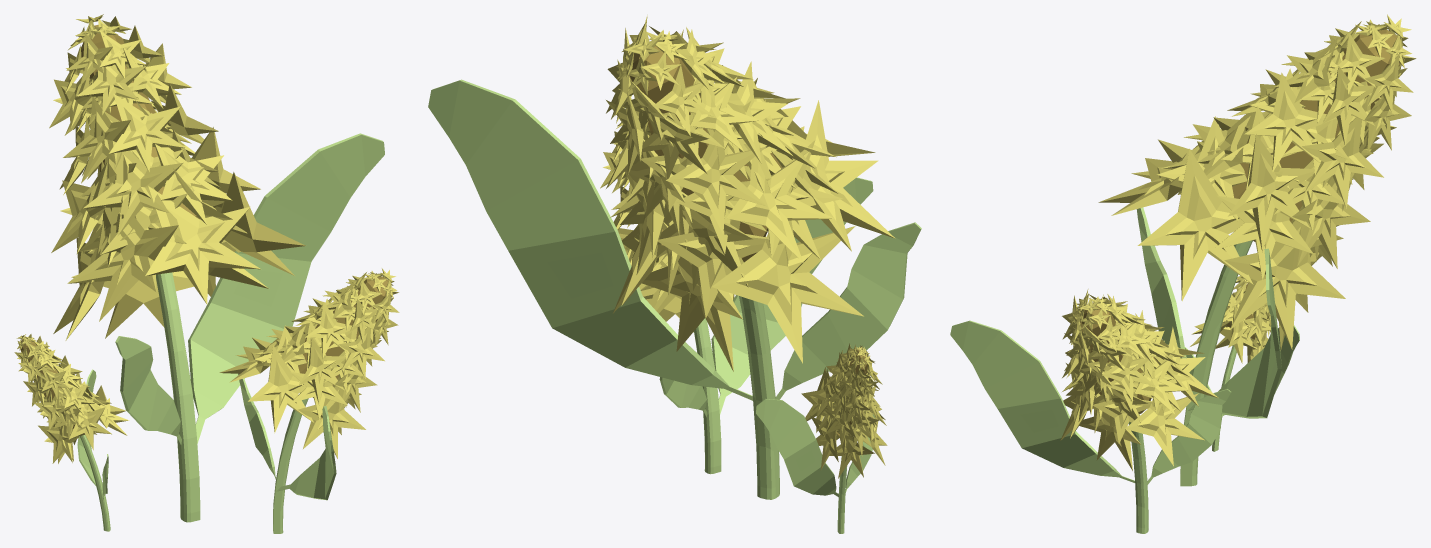
The model's file is Spring_Flower_6.fbx.
3 views of the same model, side by side, from view 1: azimuth 30°, elevation 25°; view 2: azimuth 150°, elevation 25°; view 3: azimuth 270°, elevation 25° (orthographic). The views are drawn at different scales.
Parts seen in each view (by area): view 1: Cube.161; view 2: Cube.161; view 3: Cube.161.
Boxes of the visible parts, box(x1,y1,x2,y2) form: Cube.161: box(14, 14, 399, 533); Cube.161: box(428, 15, 921, 533); Cube.161: box(950, 14, 1416, 533).
Bounding box in the file's own units: 171 × 203 × 179.
